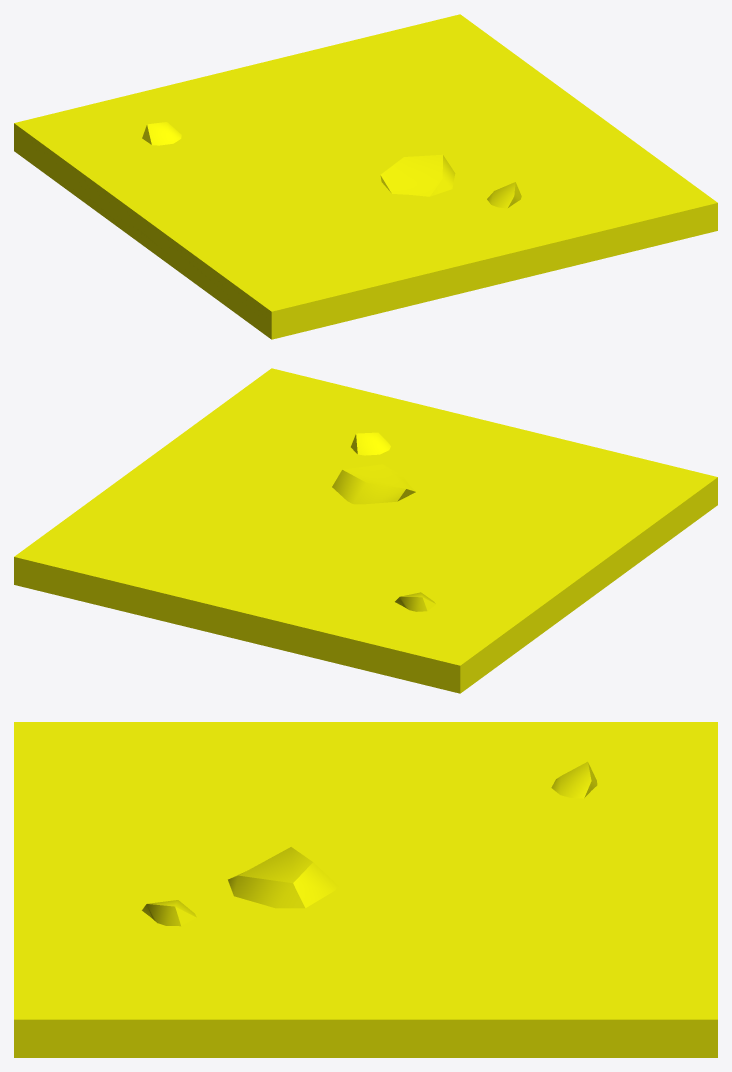
The model's file is kaykit-floor-dirt-small-a.glb.
The picture shows the model from 3 angles, top to bottom: view 1: azimuth 30°, elevation 25°; view 2: azimuth 150°, elevation 25°; view 3: azimuth 270°, elevation 25°; orthographic projection. The views are drawn at different scales.
Visible parts, largest first — view 1: floor_dirt_small_A; view 2: floor_dirt_small_A; view 3: floor_dirt_small_A.
Part boxes in pixels (box(x1,y1,x2,y2)): floor_dirt_small_A: box(14, 14, 717, 339); floor_dirt_small_A: box(14, 368, 717, 693); floor_dirt_small_A: box(14, 722, 717, 1057).
Size of the model in its own units: 2 by 0.1863 by 2.
